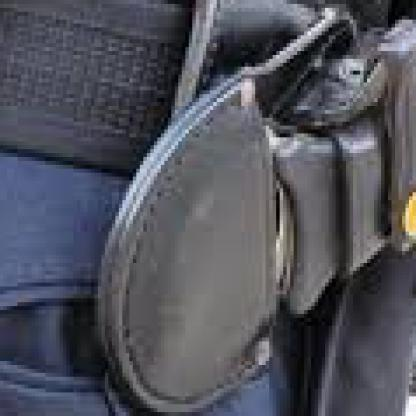gun: (158, 0, 413, 412)
